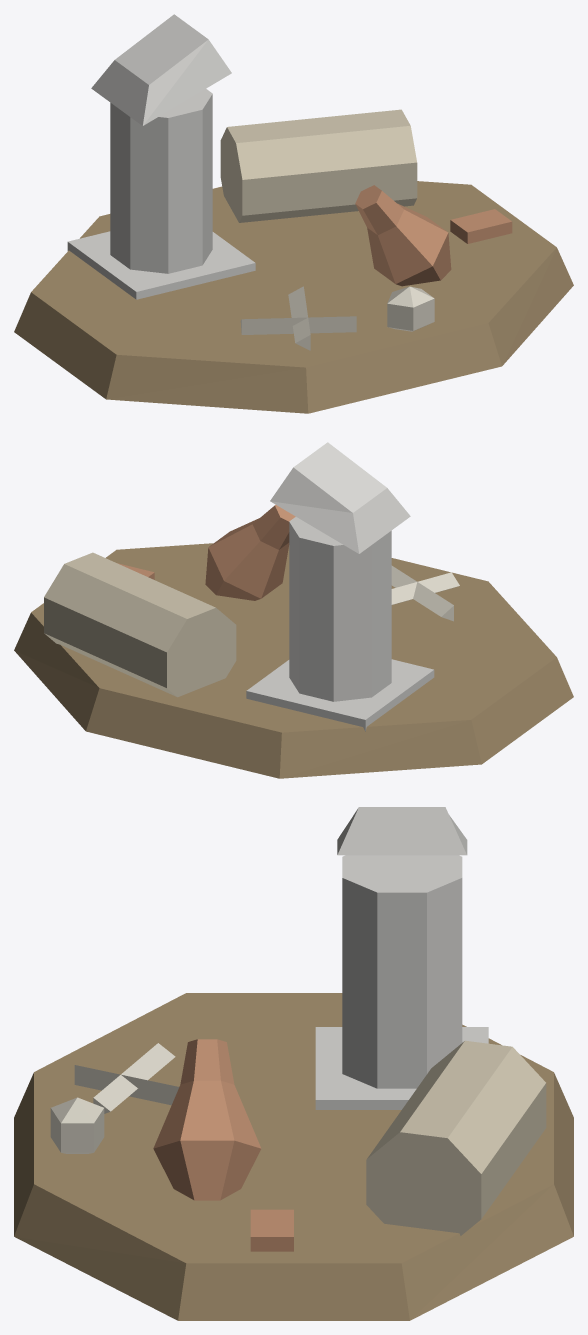
The model's file is antiquity-site.glb.
3 renders of one model, top to bottom at view 1: azimuth 30°, elevation 25°; view 2: azimuth 150°, elevation 25°; view 3: azimuth 270°, elevation 25°, orthographic. The views are drawn at different scales.
Visible parts, largest first — view 1: LOD0; view 2: LOD0; view 3: LOD0.
Boxes of the visible parts, left/top/right/bottom form: LOD0: left=14, top=14, right=573, bottom=413; LOD0: left=14, top=442, right=573, bottom=778; LOD0: left=14, top=807, right=573, bottom=1320.
Size of what is drawn, in the model's own units: 0.7539 by 0.408 by 0.6208.
